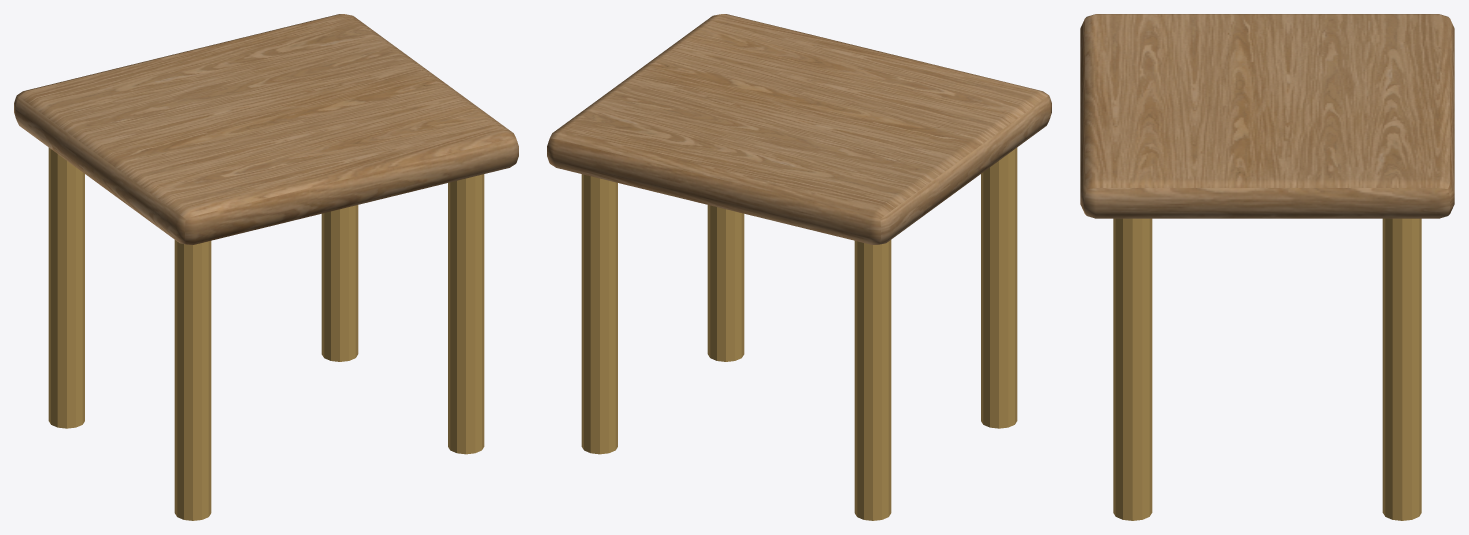
The model's file is side_table_oak.glb.
The picture shows the model from 3 angles, left to right: view 1: azimuth 30°, elevation 25°; view 2: azimuth 150°, elevation 25°; view 3: azimuth 270°, elevation 25°; orthographic projection. The views are drawn at different scales.
Parts seen in each view (by area): view 1: tabletop, table leg, table leg.002, table leg.001, table leg.003; view 2: tabletop, table leg.001, table leg.003, table leg, table leg.002; view 3: tabletop, table leg.002, table leg.003.
Part boxes in pixels (x1,y1,x2,y2): tabletop: (14,14,518,244); table leg: (174,240,211,520); table leg.002: (448,174,484,454); table leg.001: (48,147,84,428); table leg.003: (321,205,358,361); tabletop: (547,14,1051,244); table leg.001: (854,240,891,520); table leg.003: (581,174,617,454); table leg: (981,147,1017,428); table leg.002: (707,205,744,361); tabletop: (1080,14,1454,218); table leg.002: (1113,218,1152,520); table leg.003: (1382,218,1421,520).
Size of the model in its own units: 0.54 by 0.4875 by 0.48.
Materials: 2 (1 with a texture image).
